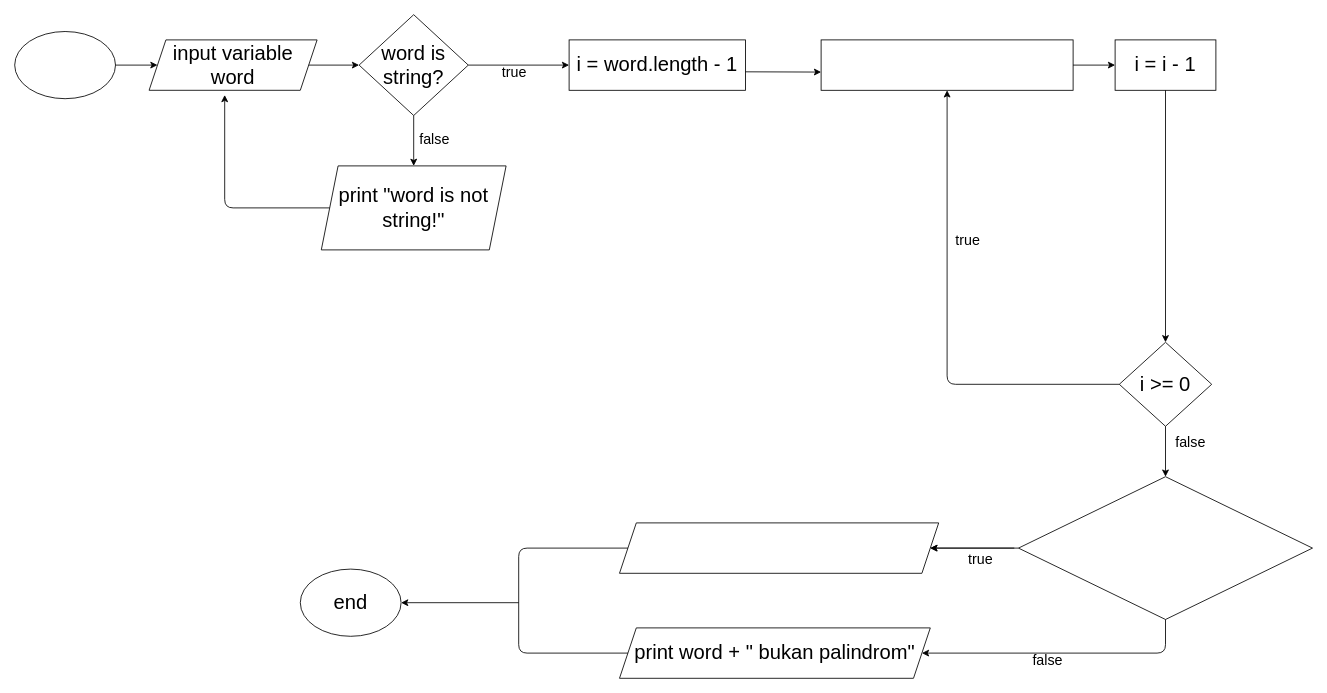
Image size: 1327x693. Some labels were removed from this diagram. The box of each missing label's shape, as (x1, y1, x2, y2) in pixels:
print word + " adalah palindrom": (619, 522, 939, 573)
reversedWord += word[i]: (820, 39, 1073, 90)
start: (14, 31, 116, 99)
word == reversedWord: (1018, 476, 1312, 620)
